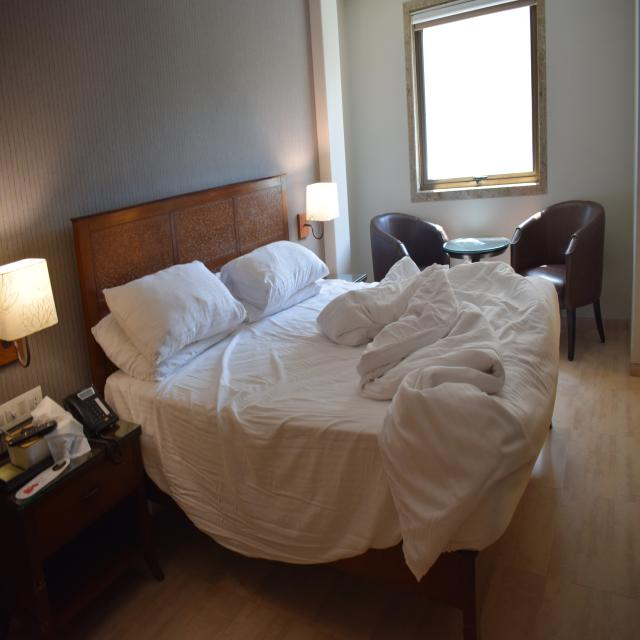mess: (131, 218, 566, 466), (2, 366, 133, 522)
